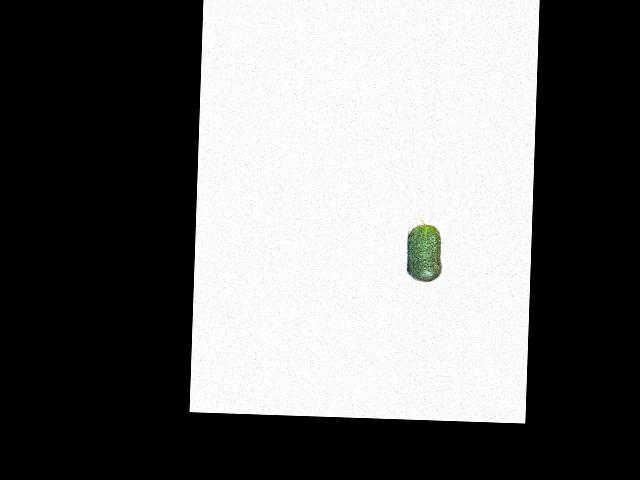cucumber: (406, 217, 442, 282)
